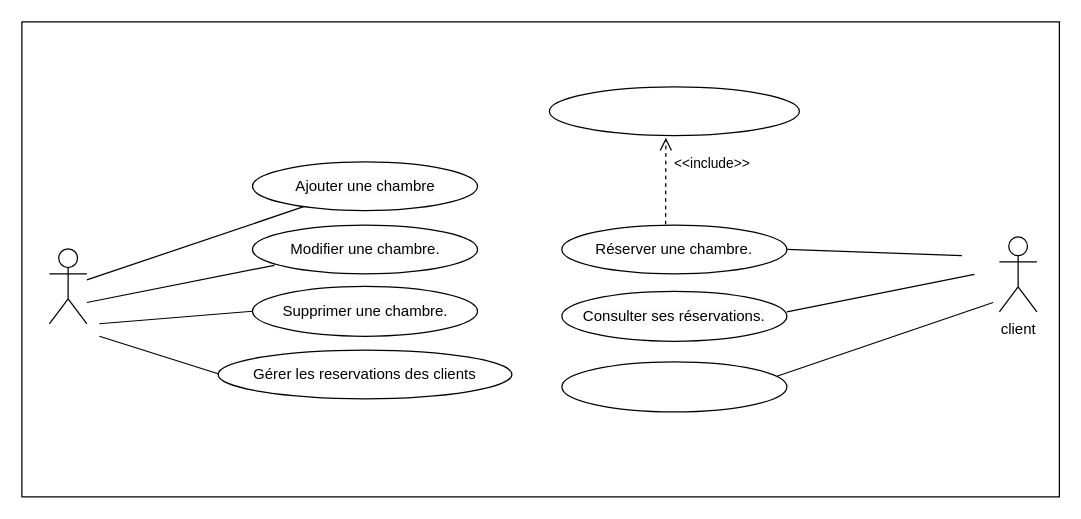
Some shapes in this 1081 by 519 pixel diagram are drawn without their labels. Here are the shapes that lost their labels. From the top down, the centre of each, then its label:
At (x=540, y=42): "Diagramme des cas d'utilisation - Système de gestion d'hôtel".
At (x=673, y=111): "Rechercher des chambres disponibles".
At (x=67, y=286): "Admin".
At (x=674, y=386): "Annuler une réservation".
